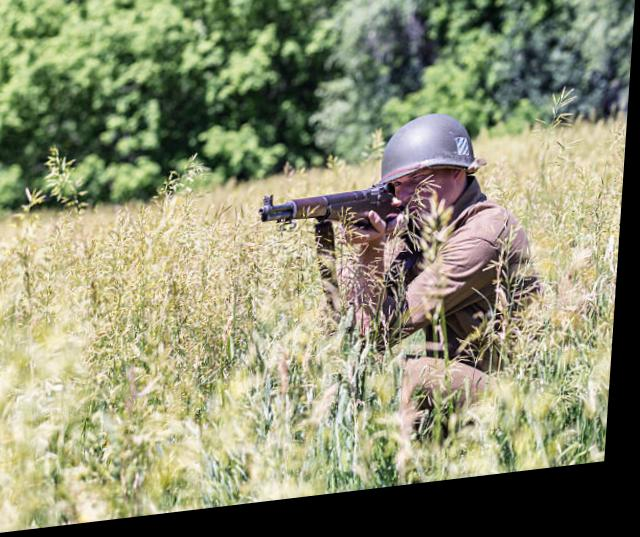other: (344, 118, 555, 430)
